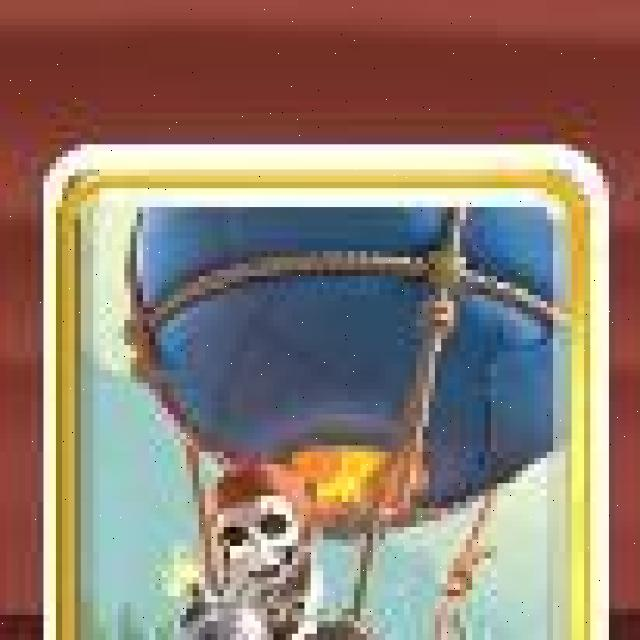Balloon: (40, 142, 616, 640)
